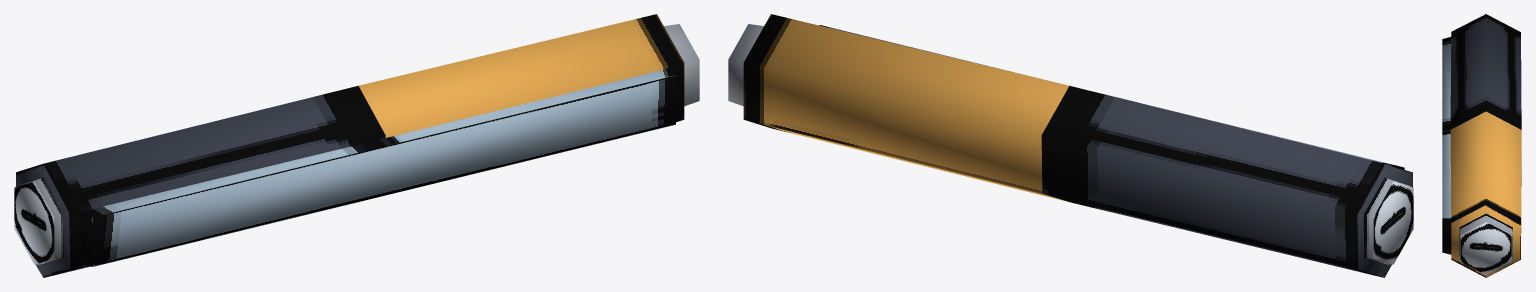
File: UIBattery.glb
The picture shows the model from 3 angles, left to right: view 1: azimuth 30°, elevation 25°; view 2: azimuth 150°, elevation 25°; view 3: azimuth 270°, elevation 25°; orthographic projection. The views are drawn at different scales.
Parts seen in each view (by area): view 1: UIBatteryCharge; view 2: UIBatteryCharge; view 3: UIBatteryCharge.
Boxes of the visible parts, x1,y1,x2,y2 form: UIBatteryCharge: (14,14,699,277); UIBatteryCharge: (728,14,1413,277); UIBatteryCharge: (1442,14,1521,277).
Size of the model in its own units: 1.97 by 0.3395 by 0.3282.
Materials: 1 (1 with a texture image).
